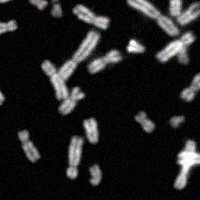chromosome: (53, 29, 100, 90), (125, 0, 178, 36), (158, 31, 193, 62), (174, 140, 196, 189), (40, 60, 67, 99), (74, 3, 109, 29), (64, 135, 84, 178), (88, 49, 122, 74), (18, 128, 40, 163), (58, 87, 86, 114), (181, 71, 200, 103), (178, 0, 200, 25), (134, 111, 156, 133), (83, 118, 101, 143), (169, 0, 192, 18), (174, 39, 189, 64), (176, 150, 200, 165), (88, 164, 102, 187), (0, 19, 17, 37), (126, 38, 145, 53), (169, 114, 186, 129), (50, 0, 63, 19), (0, 62, 5, 105), (29, 0, 46, 10), (0, 0, 19, 8)
